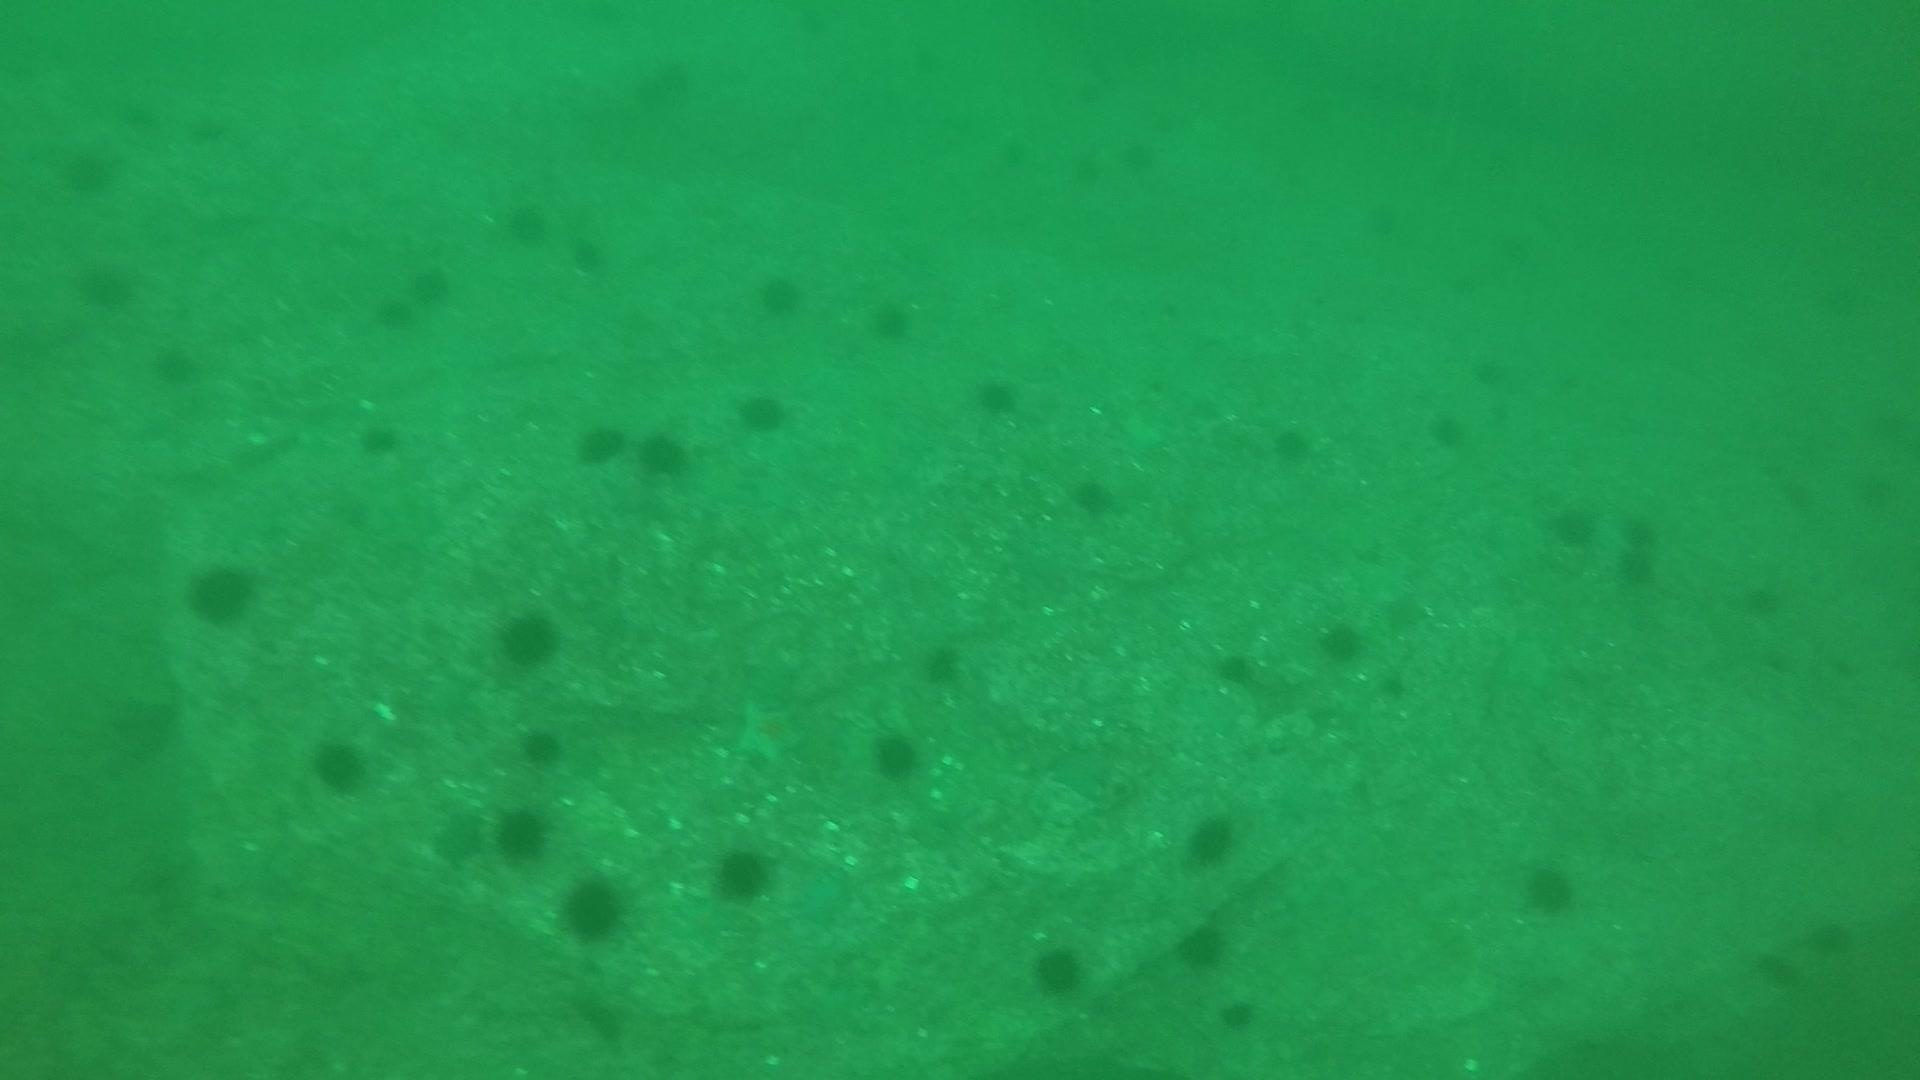echinus: (185, 556, 260, 626), (558, 873, 630, 944), (492, 604, 564, 670), (709, 843, 775, 905), (309, 733, 372, 795), (55, 140, 121, 199), (73, 256, 141, 313), (492, 803, 553, 864), (1519, 857, 1581, 916), (1029, 939, 1088, 1000), (1182, 808, 1240, 868), (868, 727, 924, 783), (1174, 919, 1232, 975), (636, 427, 691, 481), (1544, 498, 1600, 553), (1313, 615, 1369, 667), (1803, 913, 1859, 963), (735, 386, 790, 436), (498, 196, 551, 248), (754, 268, 806, 319), (574, 419, 626, 469), (149, 340, 203, 389), (1751, 945, 1805, 993), (1069, 472, 1120, 522), (373, 285, 425, 334), (866, 295, 916, 344), (516, 723, 566, 770), (972, 372, 1021, 419), (919, 640, 967, 687), (1269, 419, 1316, 467), (407, 261, 458, 306), (175, 109, 225, 154), (356, 417, 404, 460), (1213, 646, 1259, 690), (1427, 407, 1469, 452), (568, 231, 609, 277), (1619, 510, 1665, 549), (1726, 574, 1772, 612), (1614, 549, 1660, 585), (992, 135, 1031, 175), (1217, 996, 1258, 1034), (1068, 146, 1106, 187), (1118, 137, 1156, 177), (1358, 195, 1396, 235), (1466, 348, 1505, 388)
starfish: (727, 694, 803, 770), (1044, 742, 1124, 804), (789, 862, 855, 932)
